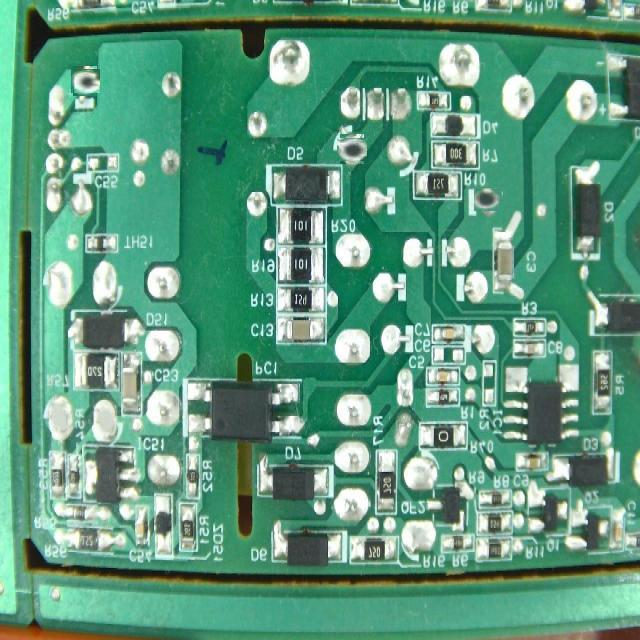damged: (338, 136, 366, 163), (475, 186, 502, 213), (72, 68, 98, 95)
